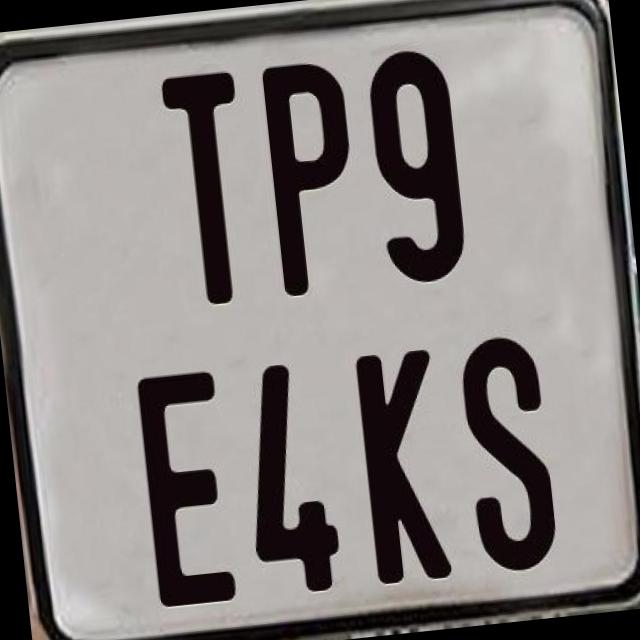4: (232, 358, 340, 597)
9: (362, 44, 473, 294)
E: (134, 364, 242, 606)
K: (354, 348, 458, 592)
P: (260, 58, 370, 298)
S: (454, 332, 558, 582)
T: (160, 65, 259, 309)
